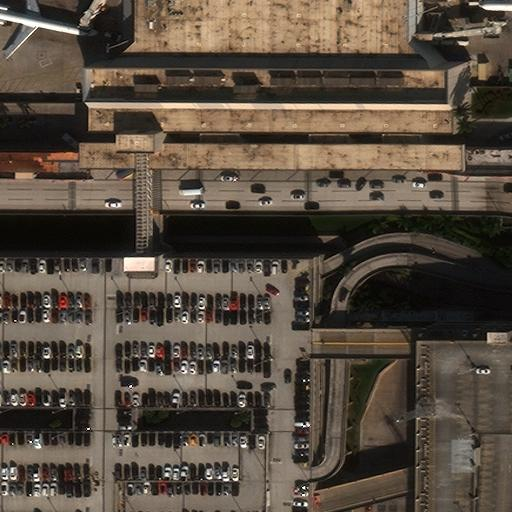Medium Civil Transport: (0, 0, 98, 59)
